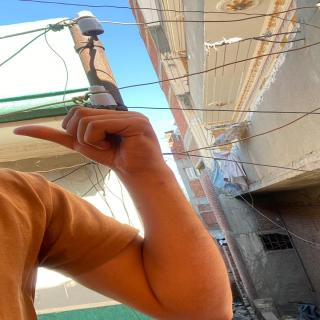WAW: (8, 101, 158, 160)
